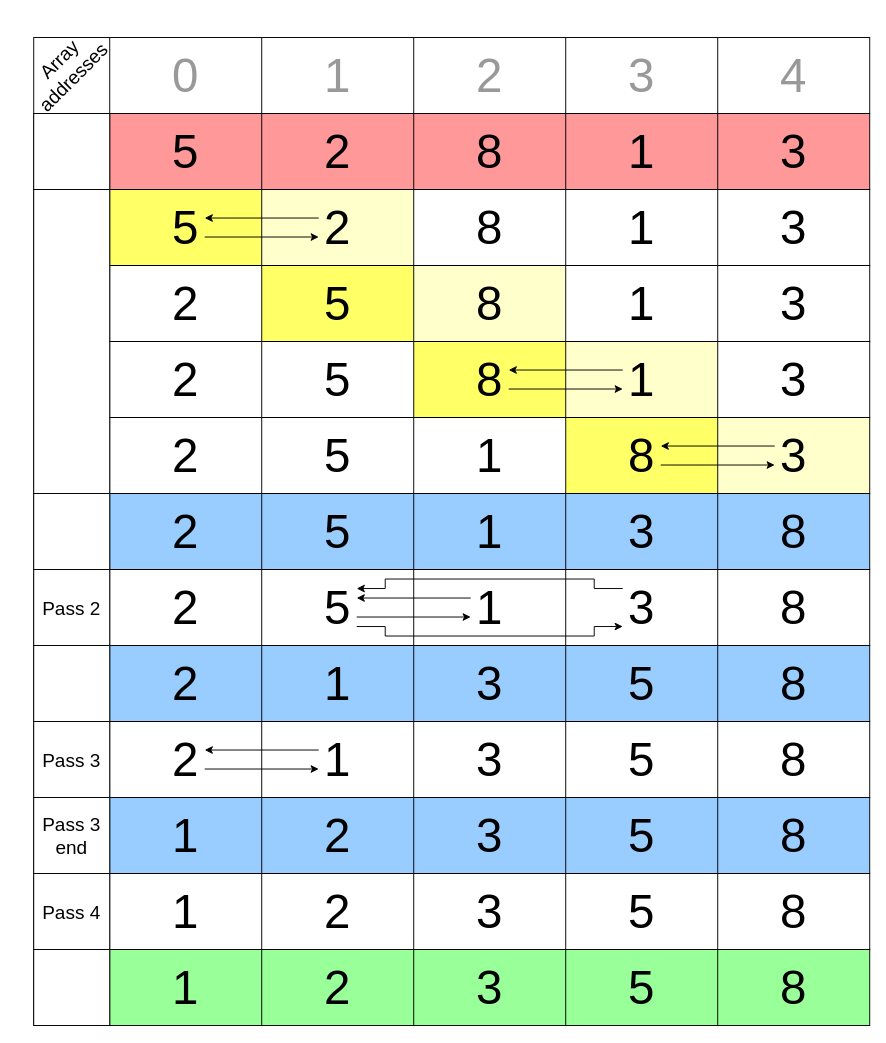
The diagram is 886 pixels wide and 1043 high, and some of its shapes have lost their labels. The centre of each missing label's shape, as x and y in pixels:
"Pass 1" belongs at point (71, 341).
"Pass 1 end" belongs at point (71, 531).
"Pass 2 end" belongs at point (71, 683).
"Pass 4 end" belongs at point (71, 987).
"Start" belongs at point (71, 151).
